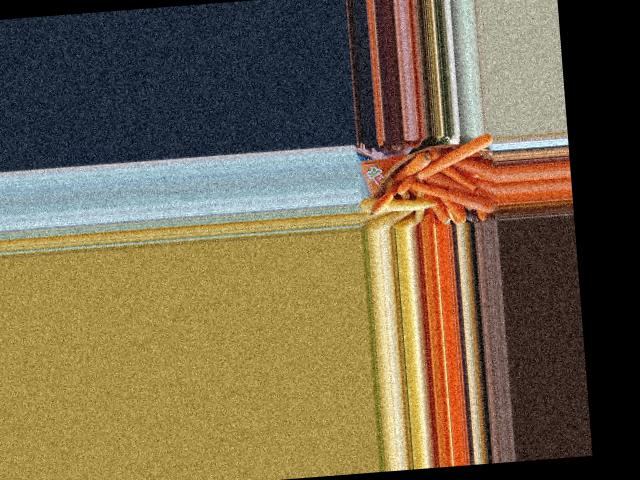carrot: (385, 149, 430, 182)
